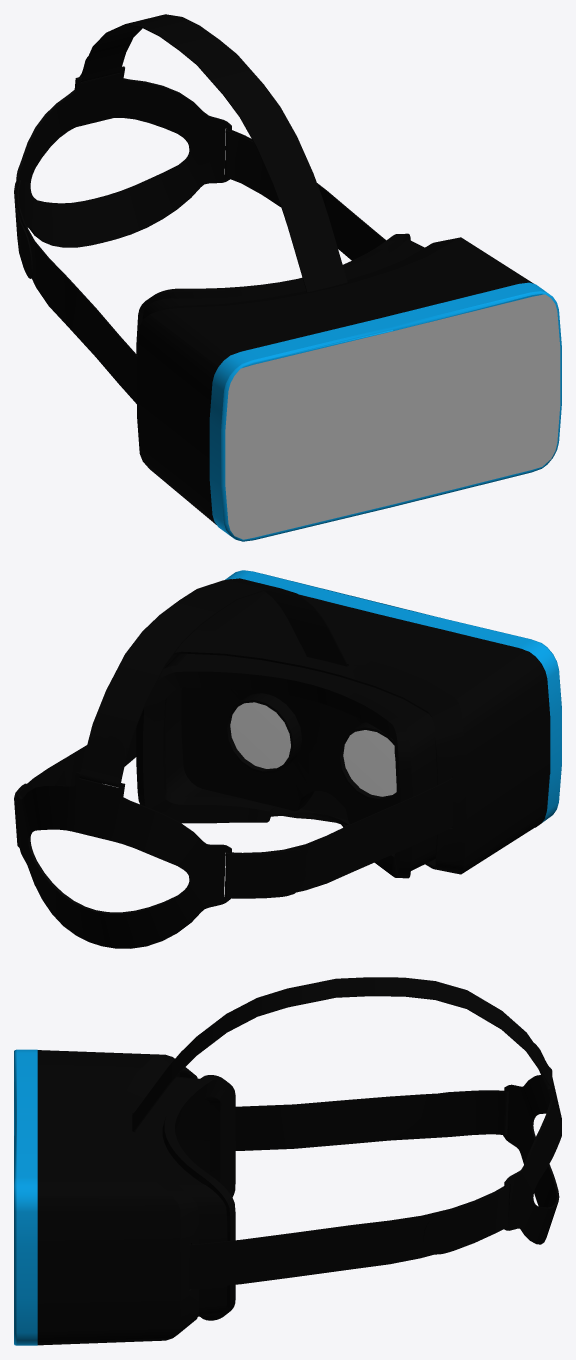
File: VR Headset.fbx
3 views of the same model, one above another, from view 1: azimuth 30°, elevation 25°; view 2: azimuth 150°, elevation 25°; view 3: azimuth 270°, elevation 25° (orthographic). The views are drawn at different scales.
Parts seen in each view (by area): view 1: Body, Plate, Band; view 2: Body, Band; view 3: Body, Band.
Boxes of the visible parts, x1,y1,x2,y2 form: Body: (14, 14, 533, 524); Plate: (225, 294, 560, 539); Band: (209, 282, 561, 541); Body: (14, 578, 550, 948); Band: (225, 570, 561, 822); Body: (37, 977, 561, 1345); Band: (14, 1049, 37, 1345).
Bounding box in the file's own units: 5.85 × 5.28 × 8.9.
